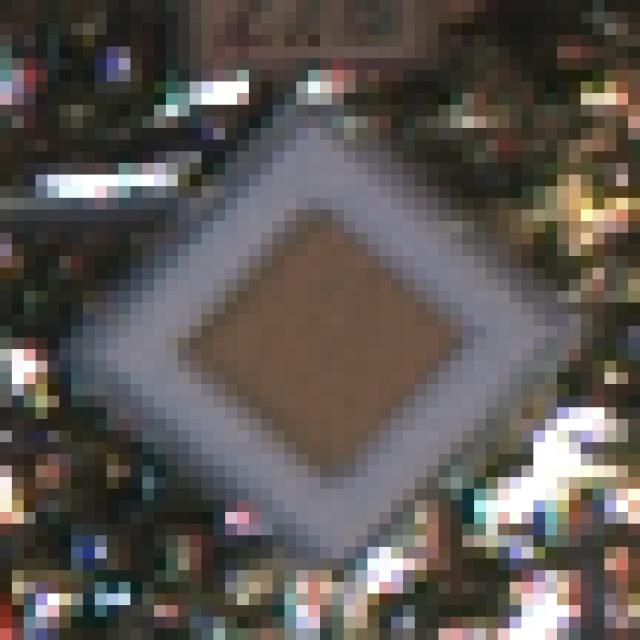Main Road: (60, 71, 570, 583)
